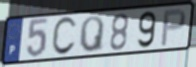5: (25, 16, 49, 60)
8: (109, 12, 130, 51)
9: (136, 10, 157, 48)
C: (50, 16, 78, 58)
P: (159, 7, 187, 48)
Q: (78, 14, 106, 54)
